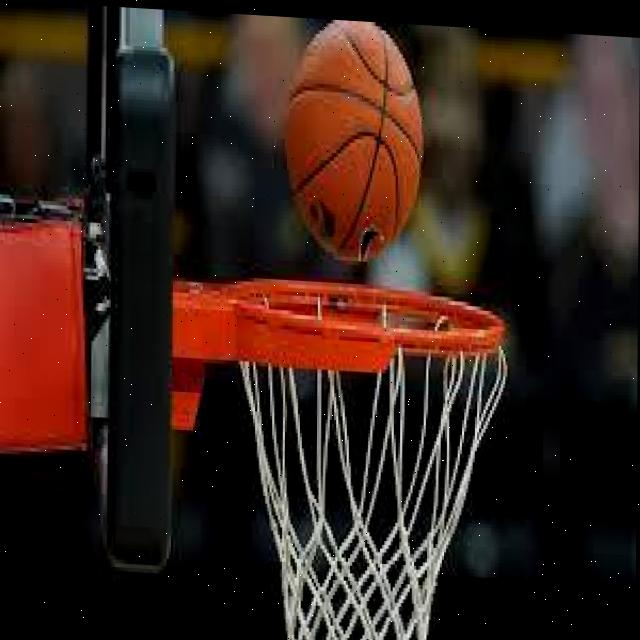basketball: (286, 21, 422, 265)
hoop: (232, 273, 504, 640)
